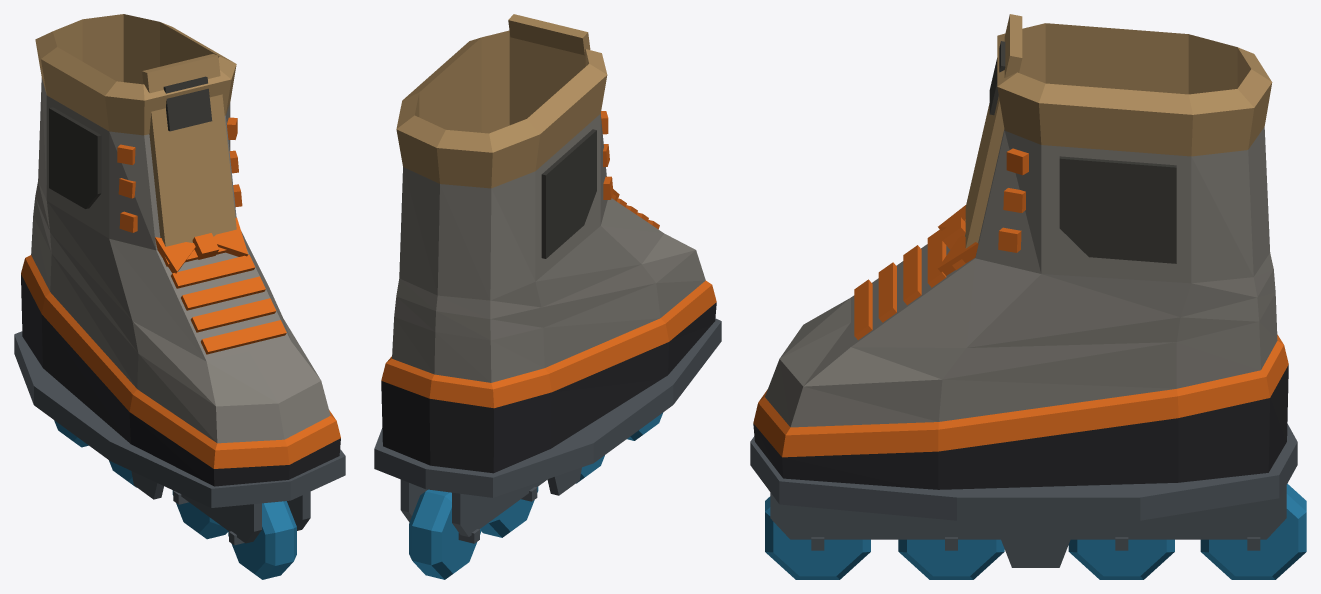
File: roller-skate-1c38cf.glb
3 views of the same model, side by side, from view 1: azimuth 30°, elevation 25°; view 2: azimuth 150°, elevation 25°; view 3: azimuth 270°, elevation 25° (orthographic). The views are drawn at different scales.
Parts seen in each view (by area): view 1: roller-skate-body, wheel-1-mesh, wheel-2-mesh; view 2: roller-skate-body, wheel-4-mesh, wheel-3-mesh; view 3: roller-skate-body, wheel-4-mesh, wheel-1-mesh, wheel-3-mesh, wheel-2-mesh.
Boxes of the visible parts, x1,y1,x2,y2 form: roller-skate-body: (14,14,345,545); wheel-1-mesh: (228,501,296,579); wheel-2-mesh: (172,490,228,539); roller-skate-body: (374,14,721,543); wheel-4-mesh: (409,489,480,579); wheel-3-mesh: (481,487,538,537); roller-skate-body: (750,14,1297,567); wheel-4-mesh: (1200,484,1306,579); wheel-1-mesh: (765,496,870,579); wheel-3-mesh: (1068,539,1174,579); wheel-2-mesh: (898,539,1004,579).
Bounding box in the file's own units: 0.144 × 0.3252 × 0.304.
